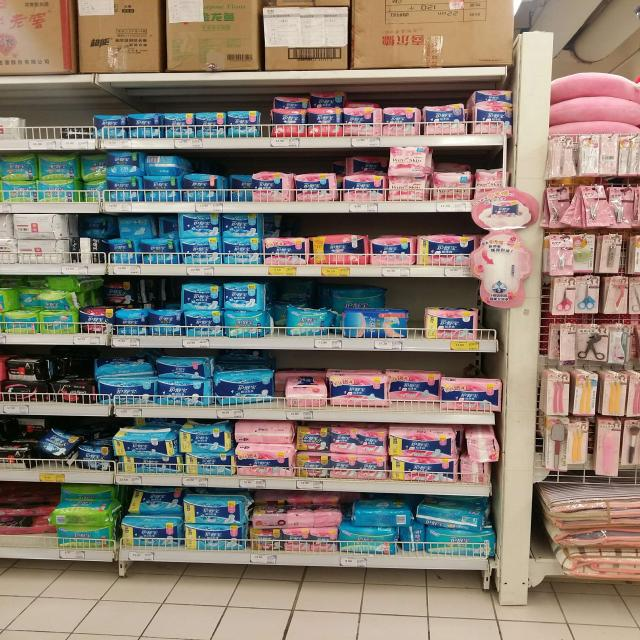unorganised: (213, 370, 275, 408), (412, 501, 486, 531), (113, 431, 177, 460), (44, 423, 82, 468), (389, 374, 439, 408), (287, 305, 336, 337), (348, 504, 412, 528), (286, 373, 328, 407), (93, 355, 155, 377), (275, 89, 345, 108), (466, 429, 500, 466), (103, 279, 144, 307), (343, 150, 387, 173), (141, 153, 183, 177), (118, 215, 157, 237), (79, 212, 113, 237), (402, 527, 424, 555), (475, 88, 510, 102), (18, 288, 40, 309)
